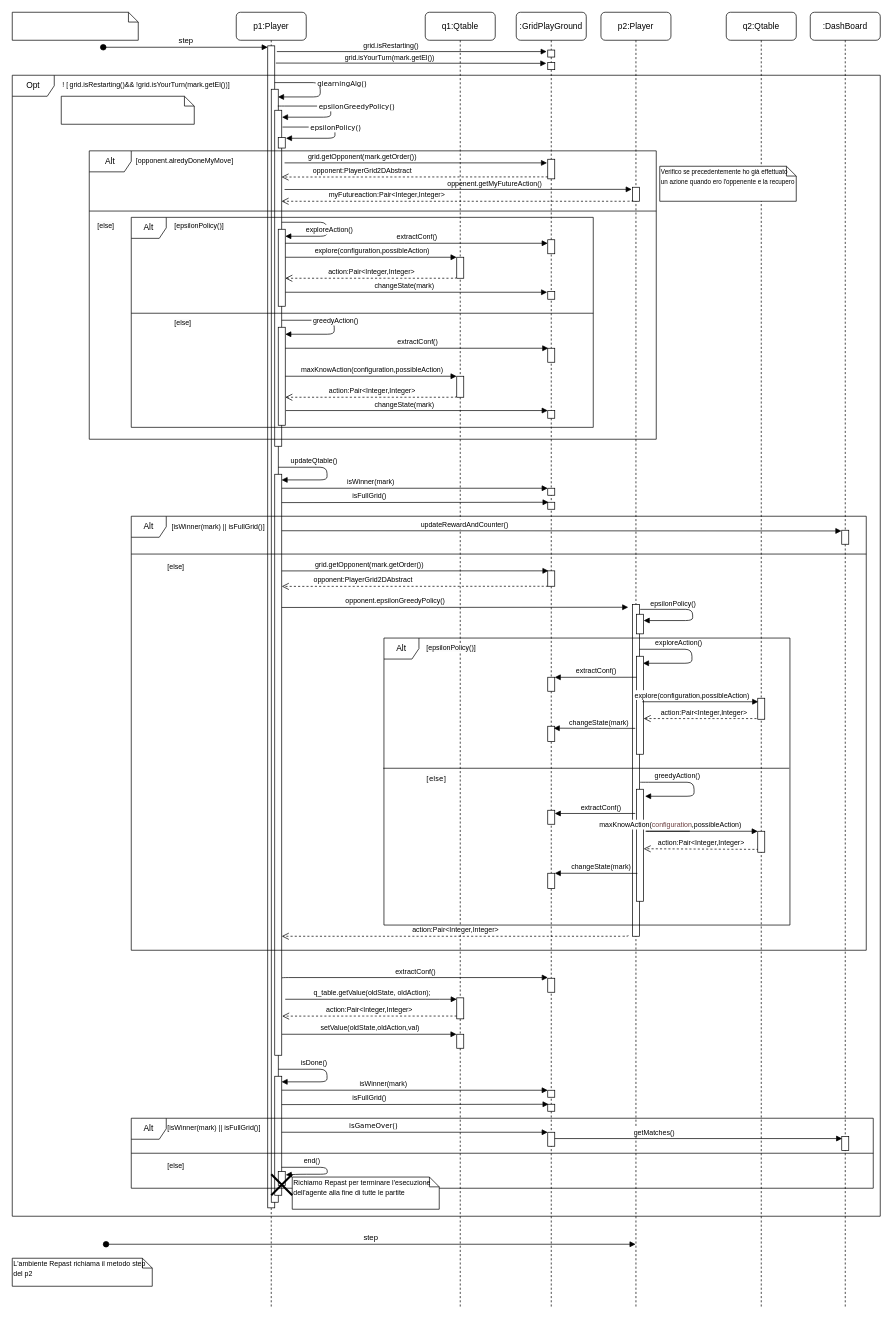
Image size: 893x1320. Some labels were removed from this diagram. The centre of each missing label's shape, as x and y in pixels:
"Repast richiama il metodo step in maniera periodica" belongs at pixel 75 26.
"Verifico se è il mio turno di iniziare la partita. Se non lo è salto la mossa" belongs at pixel 127 110.
